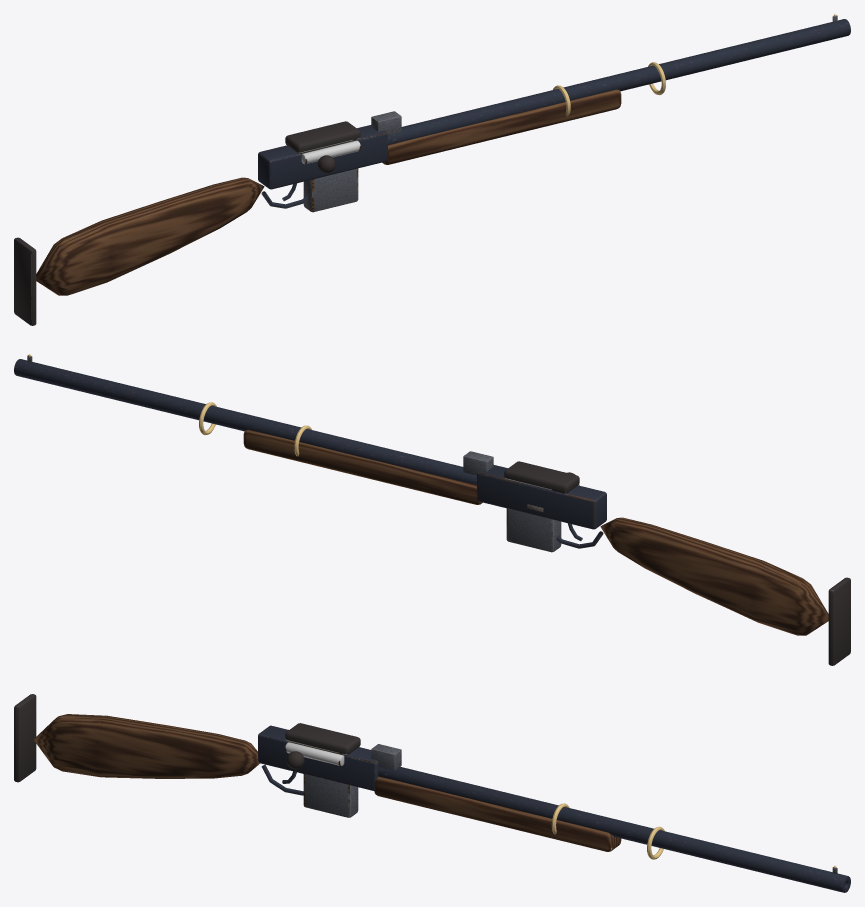
Rendered from trawlerman.glb.
3 renders of one model, top to bottom at view 1: azimuth 30°, elevation 25°; view 2: azimuth 150°, elevation 25°; view 3: azimuth 330°, elevation 25°, orthographic.
Visible parts, largest first — view 1: stock, barrel, fore_end, receiver, butt_plate, magazine, breech_cover, bolt; view 2: stock, barrel, fore_end, receiver, butt_plate, magazine, breech_cover; view 3: stock, barrel, fore_end, receiver, magazine, butt_plate, breech_cover, bolt, ladder.
Part boxes in pixels (x1,y1,x2,y2): stock: (36, 177, 264, 295); barrel: (388, 19, 850, 144); fore_end: (382, 89, 621, 164); receiver: (258, 125, 387, 189); butt_plate: (14, 237, 36, 325); magazine: (303, 168, 358, 212); breech_cover: (285, 121, 360, 153); bolt: (301, 140, 360, 164); stock: (600, 517, 828, 635); barrel: (14, 359, 476, 484); fore_end: (243, 429, 482, 504); receiver: (477, 465, 606, 529); butt_plate: (828, 577, 850, 665); magazine: (506, 508, 561, 552); breech_cover: (504, 461, 579, 493); stock: (33, 714, 259, 778); barrel: (378, 766, 850, 892); fore_end: (374, 776, 621, 851); receiver: (258, 725, 379, 790); magazine: (303, 774, 358, 817); butt_plate: (14, 694, 36, 782); breech_cover: (285, 723, 360, 755); bolt: (285, 742, 344, 765); ladder: (371, 744, 401, 770).
Size of the model in its own units: 1.04 by 0.139 by 0.064.
1 material, 1 textured.
